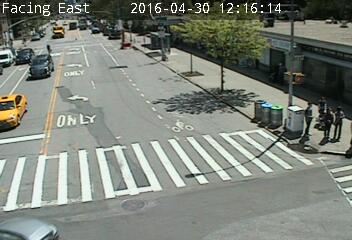neg: (69, 93, 88, 119), (132, 113, 151, 139), (173, 119, 192, 144), (212, 38, 228, 58), (232, 105, 246, 123), (123, 58, 136, 76), (106, 32, 119, 49), (42, 39, 54, 55), (251, 33, 261, 46)
pos: (295, 99, 322, 134), (327, 104, 351, 139), (314, 104, 339, 137), (309, 94, 333, 126)
